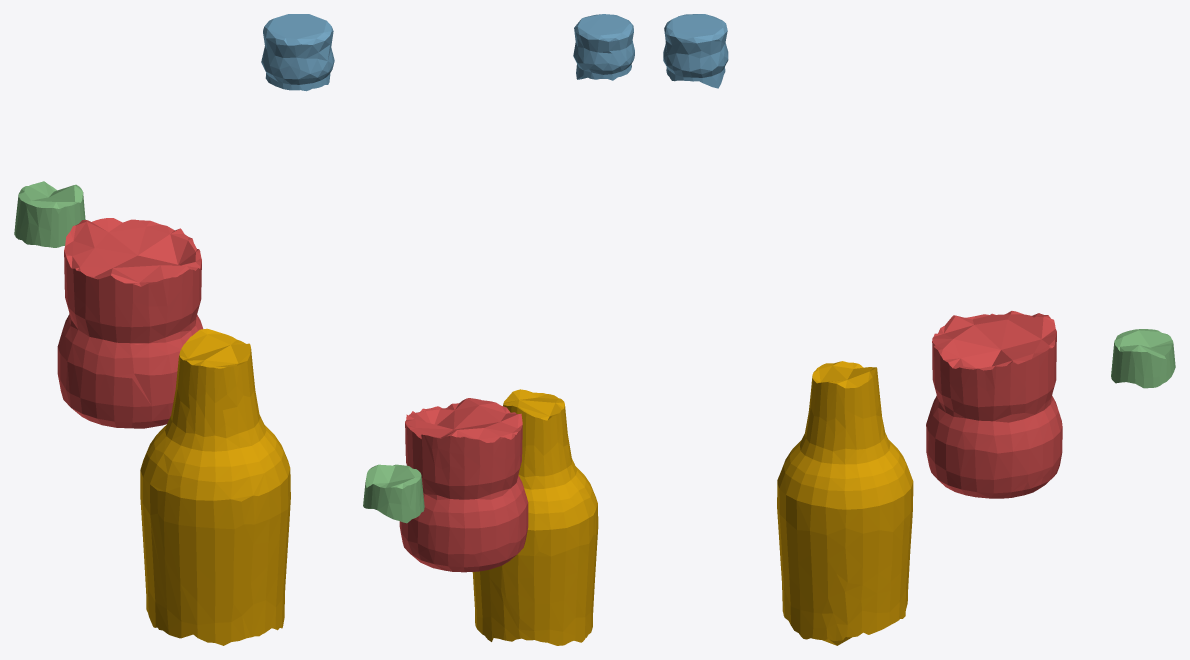
File: fractured_4_4pcs_transformed.glb
3 renders of one model, left to right at view 1: azimuth 30°, elevation 25°; view 2: azimuth 150°, elevation 25°; view 3: azimuth 270°, elevation 25°, orthographic. The views are drawn at different scales.
Parts seen in each view (by area): view 1: piece_0.obj, piece_1.obj, piece_2.obj, piece_3.obj; view 2: piece_0.obj, piece_1.obj, piece_2.obj, piece_3.obj; view 3: piece_0.obj, piece_1.obj, piece_2.obj, piece_3.obj.
Part boxes in pixels (left/top/right/bottom): piece_0.obj: left=140, top=328, right=290, bottom=645; piece_1.obj: left=57, top=218, right=203, bottom=428; piece_2.obj: left=261, top=14, right=334, bottom=91; piece_3.obj: left=14, top=181, right=85, bottom=247; piece_0.obj: left=472, top=389, right=598, bottom=645; piece_1.obj: left=399, top=398, right=528, bottom=572; piece_2.obj: left=573, top=14, right=634, bottom=80; piece_3.obj: left=363, top=464, right=424, bottom=523; piece_0.obj: left=777, top=361, right=913, bottom=645; piece_1.obj: left=926, top=311, right=1062, bottom=498; piece_2.obj: left=663, top=14, right=728, bottom=88; piece_3.obj: left=1111, top=329, right=1175, bottom=388.
Size of the model in its own units: 0.2746 by 1.34 by 1.03.
